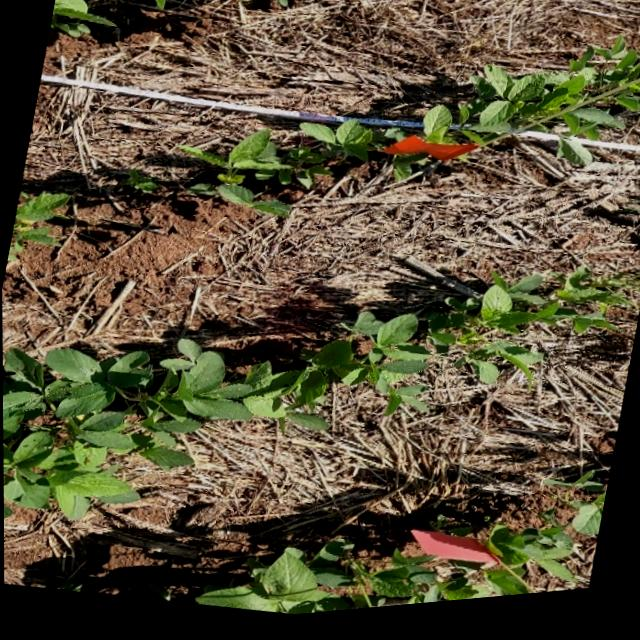soy_plant: (2, 279, 617, 520), (195, 530, 575, 620), (460, 48, 640, 173), (182, 125, 400, 222), (8, 192, 70, 257), (547, 481, 606, 545), (51, 0, 114, 37), (423, 112, 455, 152), (127, 171, 160, 195)
